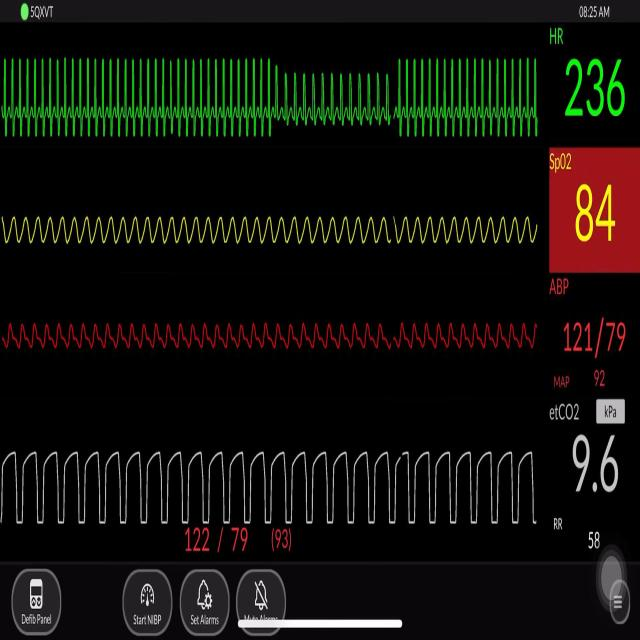danger: (3, 40, 282, 155), (404, 36, 544, 151), (290, 58, 395, 140)
